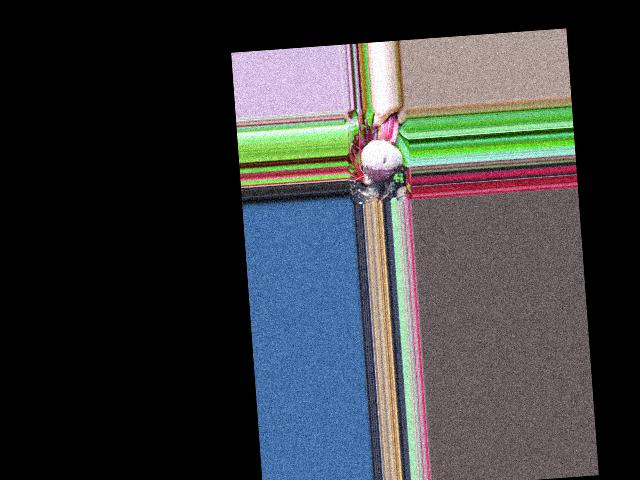beet: (357, 111, 405, 204)
